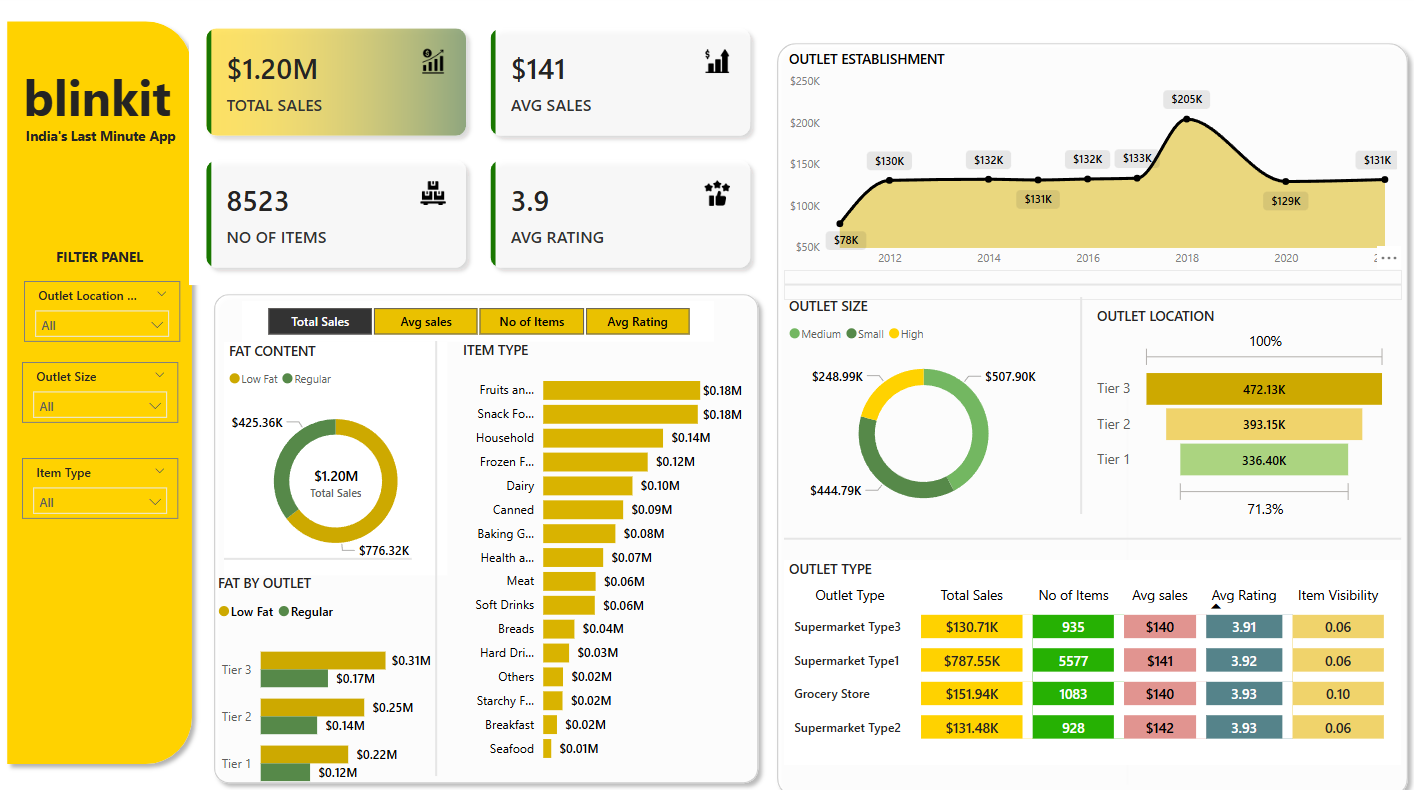

What the dashboard file says about the page in this screenshot:
{"tool":"powerbi","page":{"name":"Page 1","canvas":[1400,800],"ordinal":0},"visuals":[{"type":"shape","box":[2.1,16.8,200.3,749.8],"z":0},{"type":"textbox","box":[342.6,694.7,256.4,71.3],"z":1000},{"type":"textbox","box":[342.6,34,323.4,54.3],"z":2000},{"type":"textbox","box":[455.3,169.1,200,35.1],"z":3000},{"type":"textbox","box":[16,125.5,174.5,26.6],"z":4000},{"type":"cardVisual","fields":{"Data":["BlinkIT Grocery Data.Total Sales","BlinkIT Grocery Data.Avg sales","BlinkIT Grocery Data.No of Items","BlinkIT Grocery Data.Avg Rating"]},"box":[190.4,16,570.2,270.2],"z":5000},{"type":"textbox","box":[8.5,61.7,181.9,77.7],"z":6000},{"type":"shape","box":[206.4,286.2,554.3,500],"z":7000},{"type":"donutChart","title":"FAT CONTENT ","fields":{"Y":["BlinkIT Grocery Data.Total Sales"],"Category":["BlinkIT Grocery Data.Item Fat Content"]},"box":[224.5,341.5,220.2,229.8],"z":8000},{"type":"slicer","fields":{"Values":["Metrics  2.Metrics "]},"box":[242.6,301.1,464.9,40.4],"z":9000},{"type":"cardVisual","fields":{"Data":["BlinkIT Grocery Data.Total Sales"]},"box":[281.9,447.9,106.4,56.4],"z":10000},{"type":"clusteredBarChart","title":"FAT BY OUTLET ","fields":{"Y":["BlinkIT Grocery Data.Total Sales"],"Category":["BlinkIT Grocery Data.Outlet Location Type"],"Series":["BlinkIT Grocery Data.Item Fat Content"]},"box":[213.8,570.4,219.7,229.6],"z":11000},{"type":"shape","box":[224.5,551.1,185.1,9.6],"z":12000},{"type":"shape","box":[829.8,381.9,570.2,395.7],"z":13000},{"type":"barChart","title":"ITEM TYPE","fields":{"Y":["BlinkIT Grocery Data.Total Sales"],"Category":["BlinkIT Grocery Data.Item Type"]},"box":[455.3,340.4,285.1,425.5],"z":14000},{"type":"shape","box":[760.3,38.8,639.7,761.3],"z":15000},{"type":"lineChart","title":"OUTLET ESTABLISHMENT","fields":{"Y":["BlinkIT Grocery Data.Total Sales"],"Category":["BlinkIT Grocery Data.Outlet Establishment Year"]},"box":[776.6,54.3,608.5,223.4],"z":16000},{"type":"shape","box":[776.6,271.3,608.5,28.7],"z":17000},{"type":"shape","box":[422.6,340.8,22,428.9],"z":18000},{"type":"donutChart","title":"OUTLET SIZE","fields":{"Y":["BlinkIT Grocery Data.Total Sales"],"Category":["BlinkIT Grocery Data.Outlet Size"]},"box":[776,297.8,274.8,225.5],"z":19000},{"type":"shape","box":[1058.1,297.8,22,213.9],"z":20000},{"type":"funnel","title":"OUTLET LOCATION","fields":{"Y":["Sum(BlinkIT Grocery Data.Sales)"],"Category":["BlinkIT Grocery Data.Outlet Location Type"]},"box":[1080.1,307.3,295.7,213.9],"z":21000},{"type":"shape","box":[776,521.2,608.2,29.4],"z":22000},{"type":"pivotTable","title":"OUTLET TYPE ","fields":{"Rows":["BlinkIT Grocery Data.Outlet Type"],"Values":["BlinkIT Grocery Data.Total Sales","BlinkIT Grocery Data.No of Items","BlinkIT Grocery Data.Avg sales","BlinkIT Grocery Data.Avg Rating","Avg(BlinkIT Grocery Data.Item Visibility)"]},"box":[776,556.9,608.2,202.4],"z":23000},{"type":"slicer","fields":{"Values":["BlinkIT Grocery Data.Outlet Location Type"]},"box":[27.3,282.1,154.2,59.8],"z":23001},{"type":"slicer","fields":{"Values":["BlinkIT Grocery Data.Outlet Size"]},"box":[25.2,361.8,154.2,59.8],"z":23002},{"type":"slicer","fields":{"Values":["BlinkIT Grocery Data.Item Type"]},"box":[25.2,456.2,154.2,59.8],"z":23003},{"type":"textbox","box":[14.8,244.3,174.4,26.6],"z":23004}]}

Visuals, with their boxes in screenshot pixels (x1, y1, x2, y2), scaled from the page's 1400x800 canvas onto the 1414x790 screenshot:
shape: bbox=(2, 17, 204, 757)
textbox: bbox=(346, 686, 605, 756)
textbox: bbox=(346, 34, 673, 87)
textbox: bbox=(460, 167, 662, 202)
textbox: bbox=(16, 124, 192, 150)
cardVisual - BlinkIT Grocery Data.Total Sales x BlinkIT Grocery Data.Avg sales: bbox=(192, 16, 768, 283)
textbox: bbox=(9, 61, 192, 138)
shape: bbox=(208, 283, 768, 776)
"FAT CONTENT " donutChart: bbox=(227, 337, 449, 564)
slicer - Metrics  2.Metrics : bbox=(245, 297, 715, 337)
cardVisual - BlinkIT Grocery Data.Total Sales: bbox=(285, 442, 392, 498)
"FAT BY OUTLET " clusteredBarChart: bbox=(216, 563, 438, 789)
shape: bbox=(227, 544, 414, 554)
shape: bbox=(838, 377, 1413, 768)
"ITEM TYPE" barChart: bbox=(460, 336, 748, 756)
shape: bbox=(768, 38, 1413, 789)
"OUTLET ESTABLISHMENT" lineChart: bbox=(784, 54, 1399, 274)
shape: bbox=(784, 268, 1399, 296)
shape: bbox=(427, 337, 449, 760)
"OUTLET SIZE" donutChart: bbox=(784, 294, 1061, 517)
shape: bbox=(1069, 294, 1091, 505)
"OUTLET LOCATION" funnel: bbox=(1091, 303, 1390, 515)
shape: bbox=(784, 515, 1398, 544)
"OUTLET TYPE " pivotTable: bbox=(784, 550, 1398, 750)
slicer - BlinkIT Grocery Data.Outlet Location Type: bbox=(28, 279, 183, 338)
slicer - BlinkIT Grocery Data.Outlet Size: bbox=(25, 357, 181, 416)
slicer - BlinkIT Grocery Data.Item Type: bbox=(25, 450, 181, 510)
textbox: bbox=(15, 241, 191, 268)
